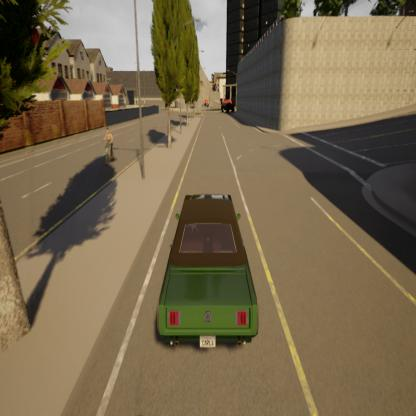Cars: (150, 187, 264, 355), (221, 97, 236, 115)
